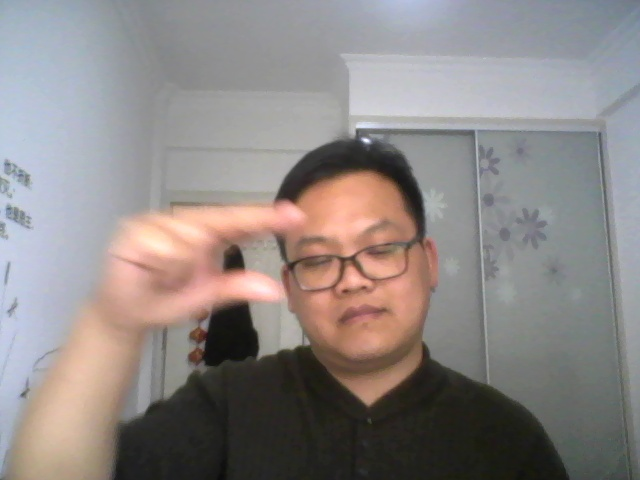No: (88, 197, 319, 331)
